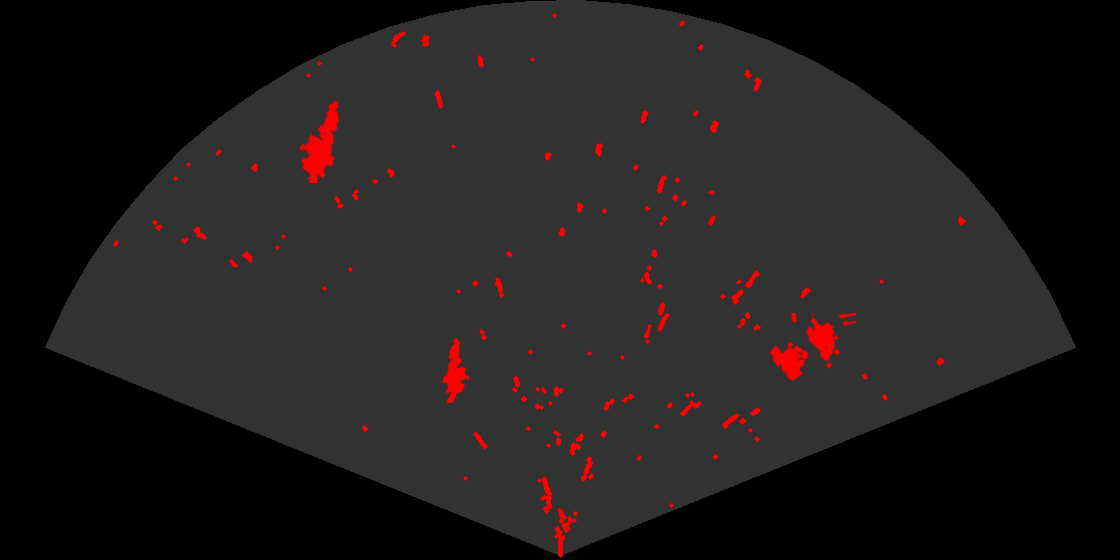cage: (768, 313, 856, 383)
frogman: (298, 99, 341, 183), (441, 336, 471, 403)
